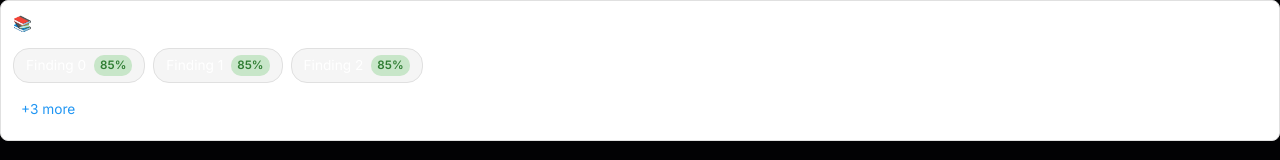
Test: ResearchChips › expands to show all items when expand button clicked
Click the button "+3 more".
click(48, 109)  # box [13,91,83,128]
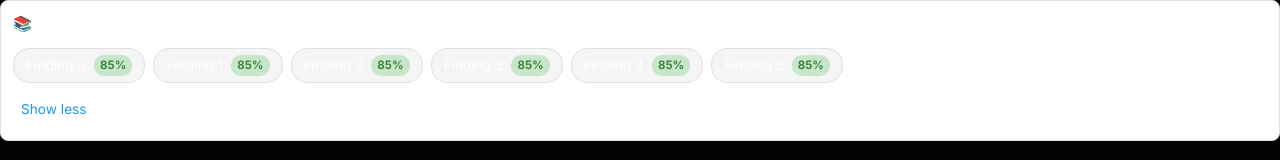
Now the button "Show less" is shown, box [13,91,95,128]
